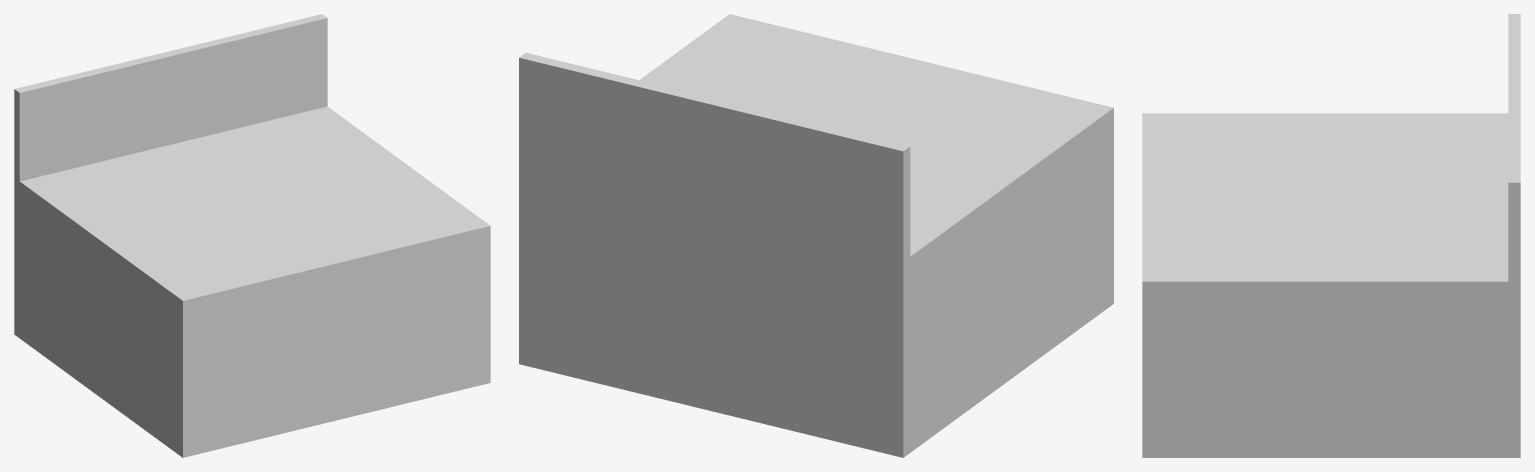
File: Counter_2_A.glb
3 renders of one model, left to right at view 1: azimuth 30°, elevation 25°; view 2: azimuth 150°, elevation 25°; view 3: azimuth 270°, elevation 25°, orthographic. The views are drawn at different scales.
Visible parts, largest first — view 1: Counter 2 A; view 2: Counter 2 A; view 3: Counter 2 A.
Part boxes in pixels (x1,y1,x2,y2): Counter 2 A: (14,14,490,457); Counter 2 A: (519,14,1113,457); Counter 2 A: (1142,14,1520,457).
Bounding box in the file's own units: 1 × 0.7623 × 0.949.
Materials: 1 (1 with a texture image).
